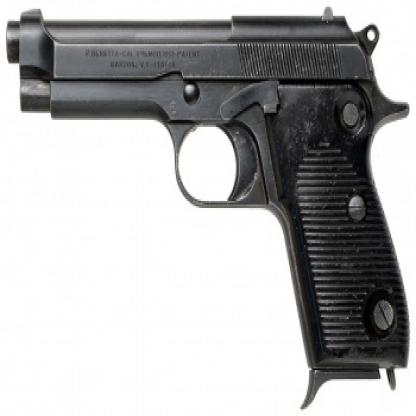Guns: (3, 2, 414, 414)
